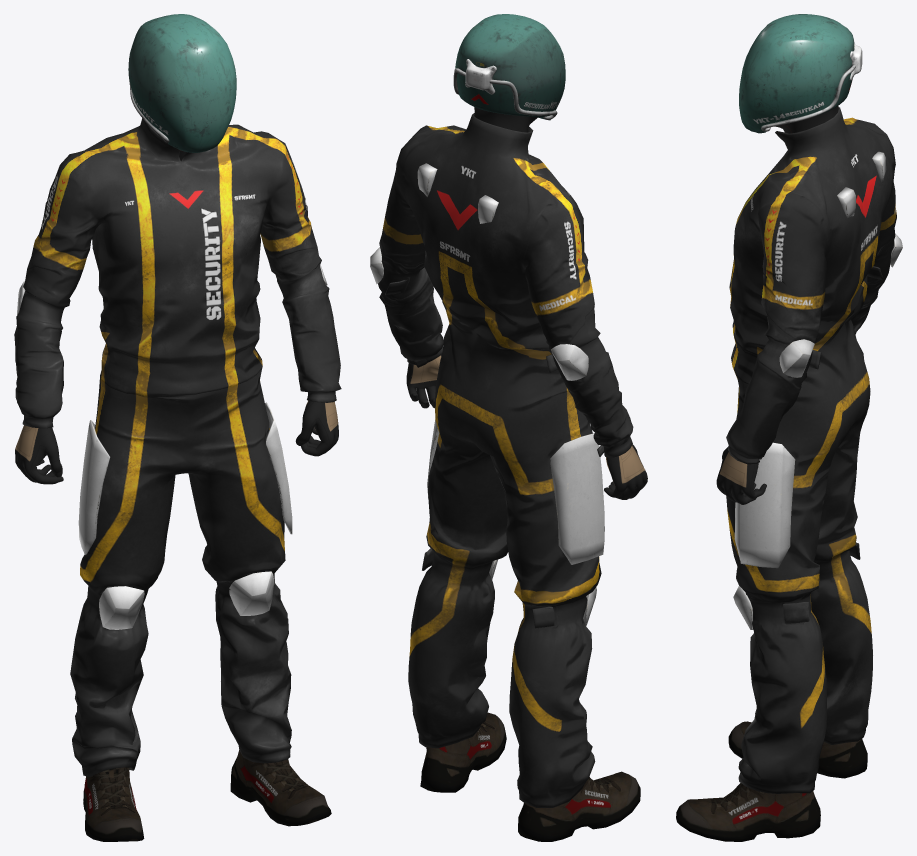
The model's file is player_bot1.glb.
3 views of the same model, side by side, from view 1: azimuth 30°, elevation 25°; view 2: azimuth 150°, elevation 25°; view 3: azimuth 270°, elevation 25° (orthographic).
Visible parts, largest first — view 1: Low Poly Jumpsuit, Low Poly Headset, Boots Low Poly, DETAILS Low Poly, Genesis8Male.Shape; view 2: Low Poly Jumpsuit, Low Poly Headset, DETAILS Low Poly, Boots Low Poly, Genesis8Male.Shape; view 3: Low Poly Jumpsuit, Low Poly Headset, Boots Low Poly, DETAILS Low Poly, Genesis8Male.Shape.
Part boxes in pixels (<box>): Low Poly Jumpsuit: <box>14,118,341,776</box>; Low Poly Headset: <box>128,14,236,152</box>; Boots Low Poly: <box>83,750,331,841</box>; DETAILS Low Poly: <box>17,264,327,629</box>; Genesis8Male.Shape: <box>15,150,338,484</box>; Low Poly Jumpsuit: <box>378,113,633,807</box>; Low Poly Headset: <box>453,14,565,120</box>; DETAILS Low Poly: <box>370,163,604,625</box>; Boots Low Poly: <box>420,712,640,841</box>; Genesis8Male.Shape: <box>406,107,647,499</box>; Low Poly Jumpsuit: <box>726,106,896,793</box>; Low Poly Headset: <box>739,14,862,133</box>; Boots Low Poly: <box>676,721,867,841</box>; DETAILS Low Poly: <box>733,151,902,629</box>; Genesis8Male.Shape: <box>716,106,838,504</box>.
Size of the model in its own units: 1.76 by 4.61 by 1.22.
5 materials, 5 textured.
